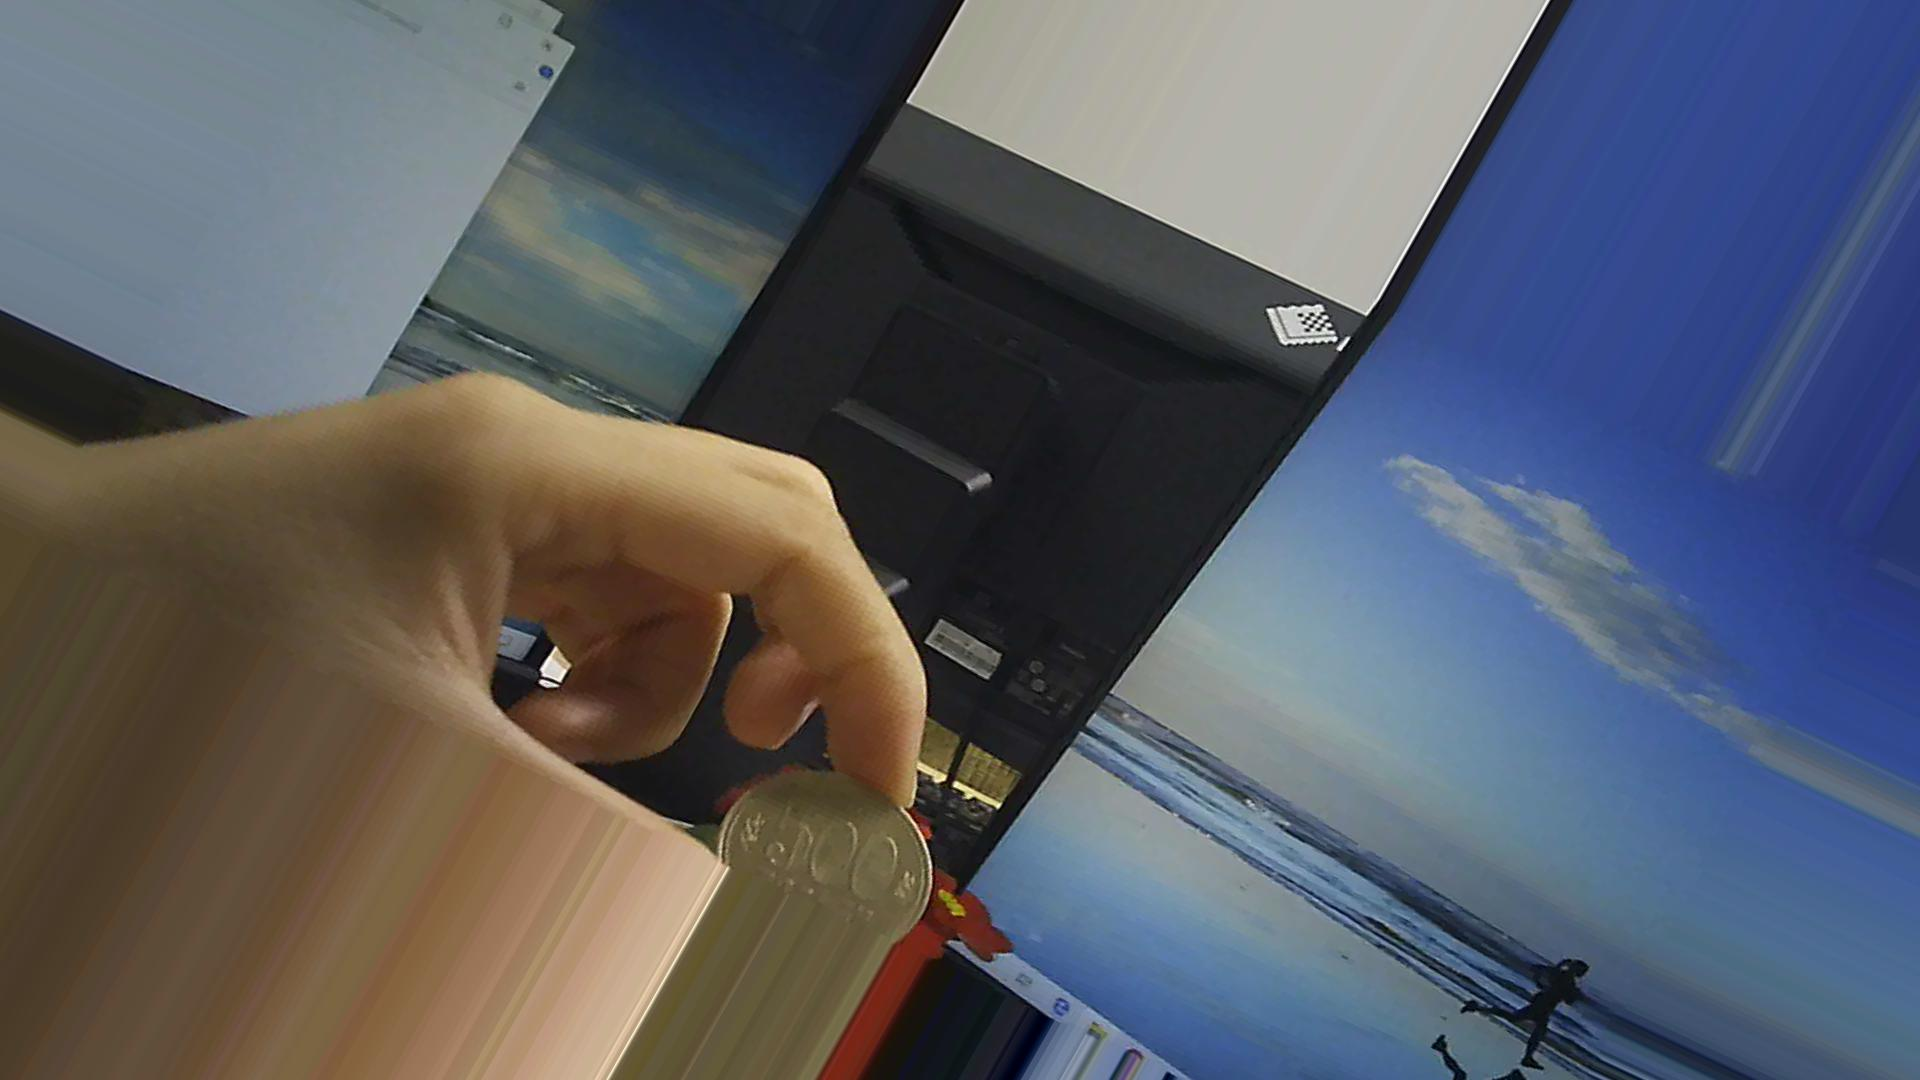500 Yen: (696, 752, 945, 953)
